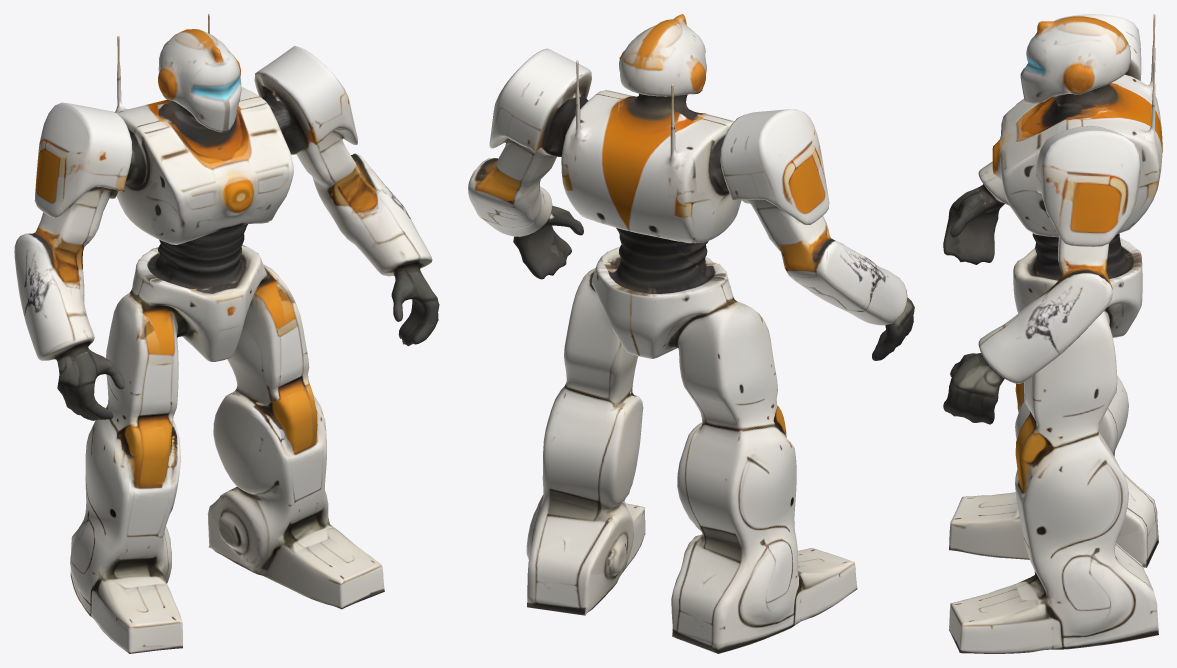
Rendered from hrrrr.glb.
The picture shows the model from 3 angles, left to right: view 1: azimuth 30°, elevation 25°; view 2: azimuth 150°, elevation 25°; view 3: azimuth 270°, elevation 25°; orthographic projection. The views are drawn at different scales.
Visible parts, largest first — view 1: Object_2; view 2: Object_2; view 3: Object_2.
Boxes of the visible parts, x1,y1,x2,y2 form: Object_2: [14, 14, 439, 653]; Object_2: [468, 14, 914, 653]; Object_2: [943, 14, 1162, 653].
Size of the model in its own units: 1.4 by 1.9 by 0.6579.
1 material, 1 textured.
